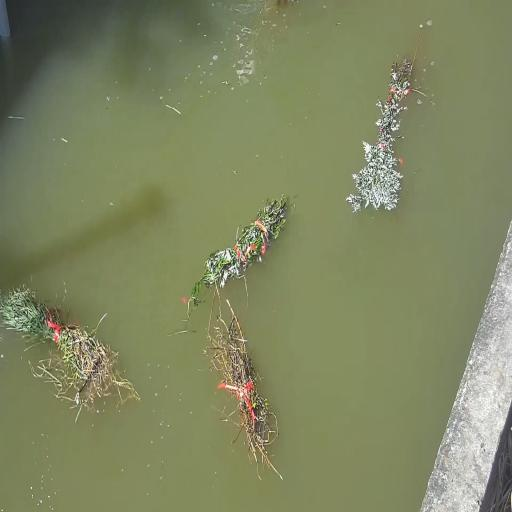twig: (0, 278, 143, 426), (205, 270, 287, 480), (345, 43, 423, 213), (188, 192, 290, 297)
